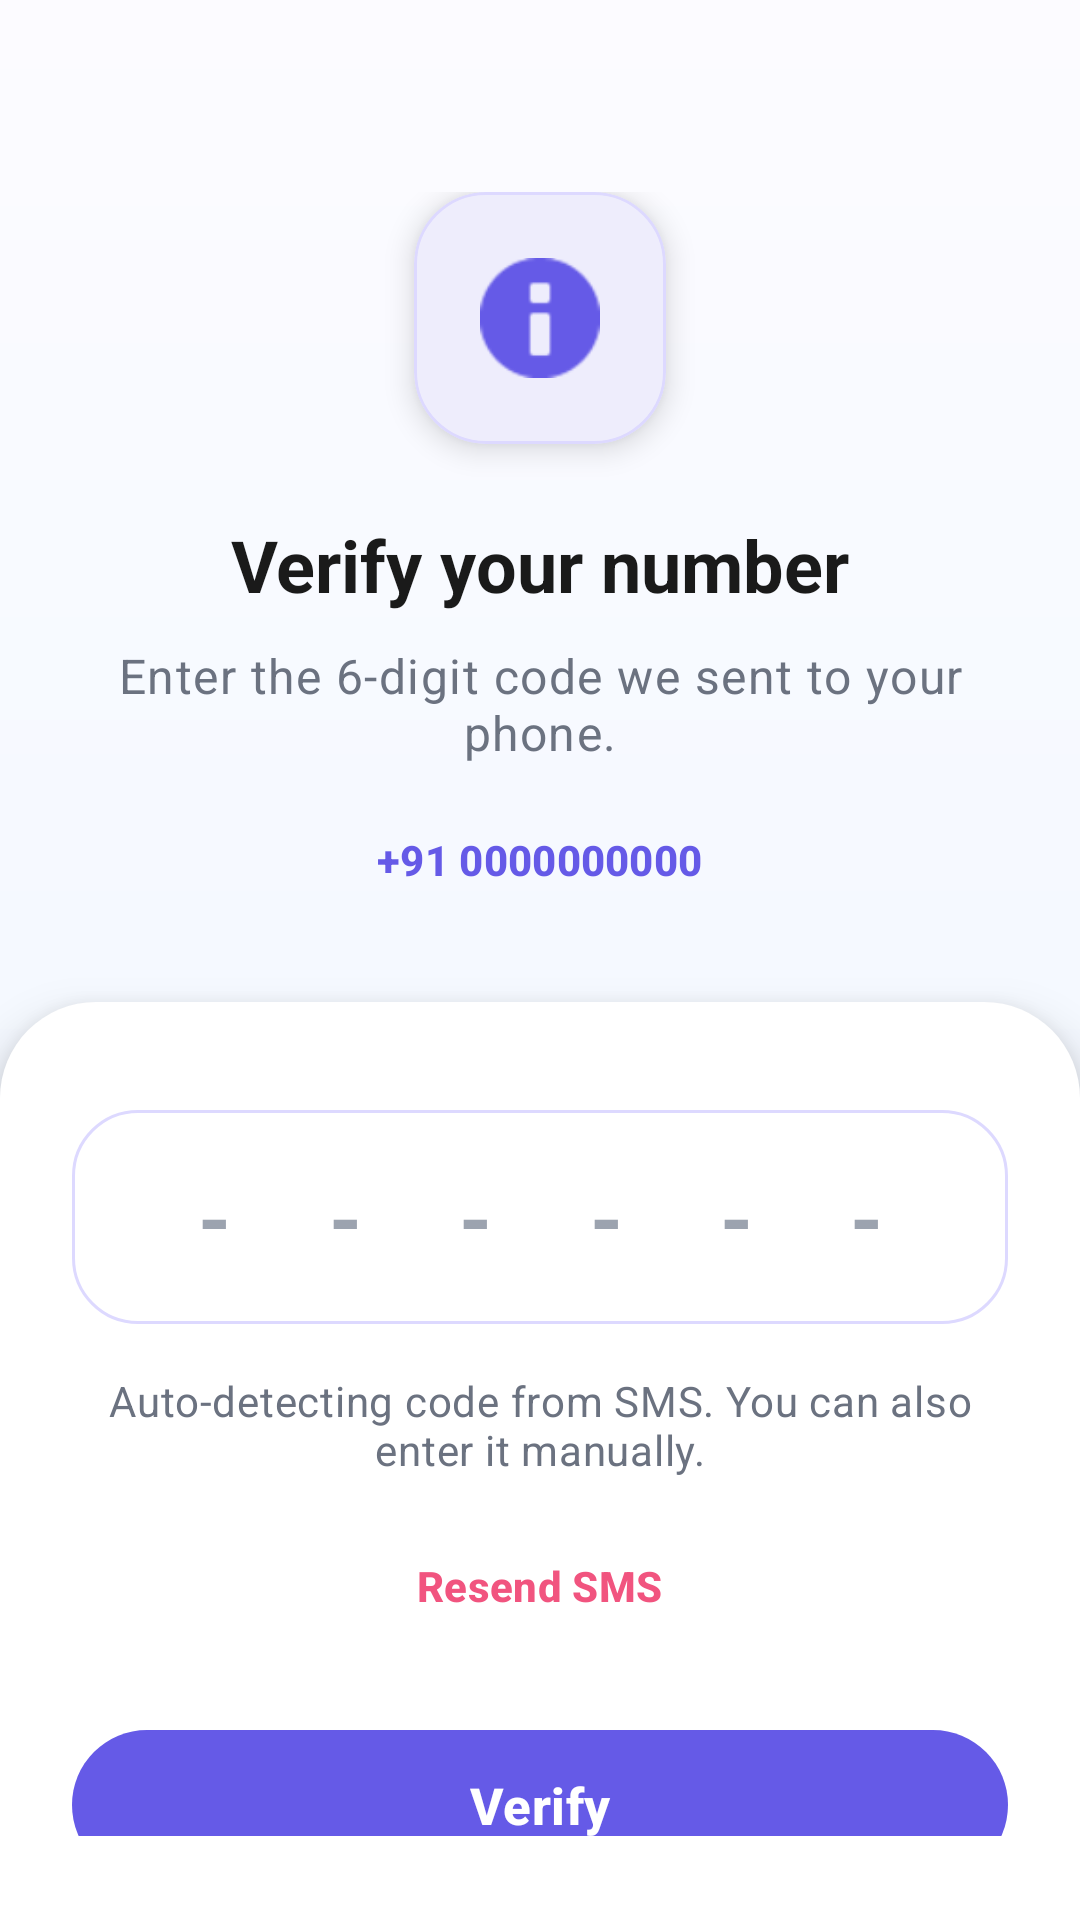

Named icons in this screenshot (1080 × 1920) and their bounding boxes, (x1=x1, y1=y1, x2=x2, y2=y2):
info: (x1=414, y1=192, x2=666, y2=444)
